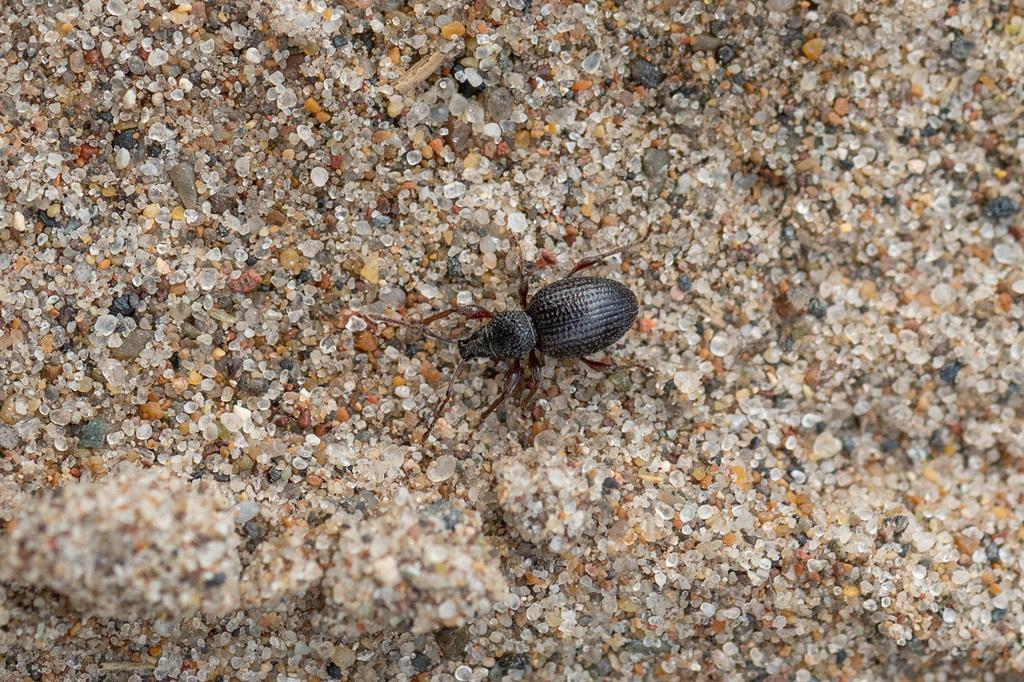weevils: (361, 215, 684, 472)
